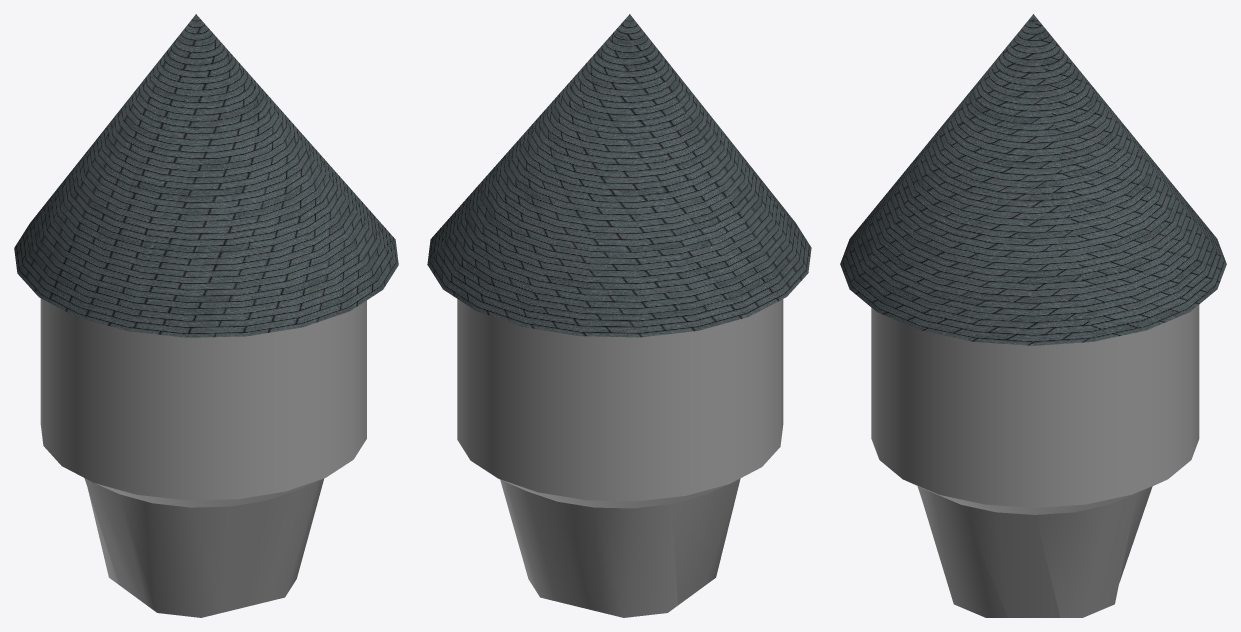
File: towertop.fbx
3 views of the same model, side by side, from view 1: azimuth 30°, elevation 25°; view 2: azimuth 150°, elevation 25°; view 3: azimuth 270°, elevation 25° (orthographic).
Parts seen in each view (by area): view 1: pCone7; view 2: pCone7; view 3: pCone7.
Part boxes in pixels (x1,y1,x2,y2): pCone7: (14,14,398,617); pCone7: (427,14,811,617); pCone7: (840,14,1226,617).
Size of the model in its own units: 24 by 38.78 by 24.
